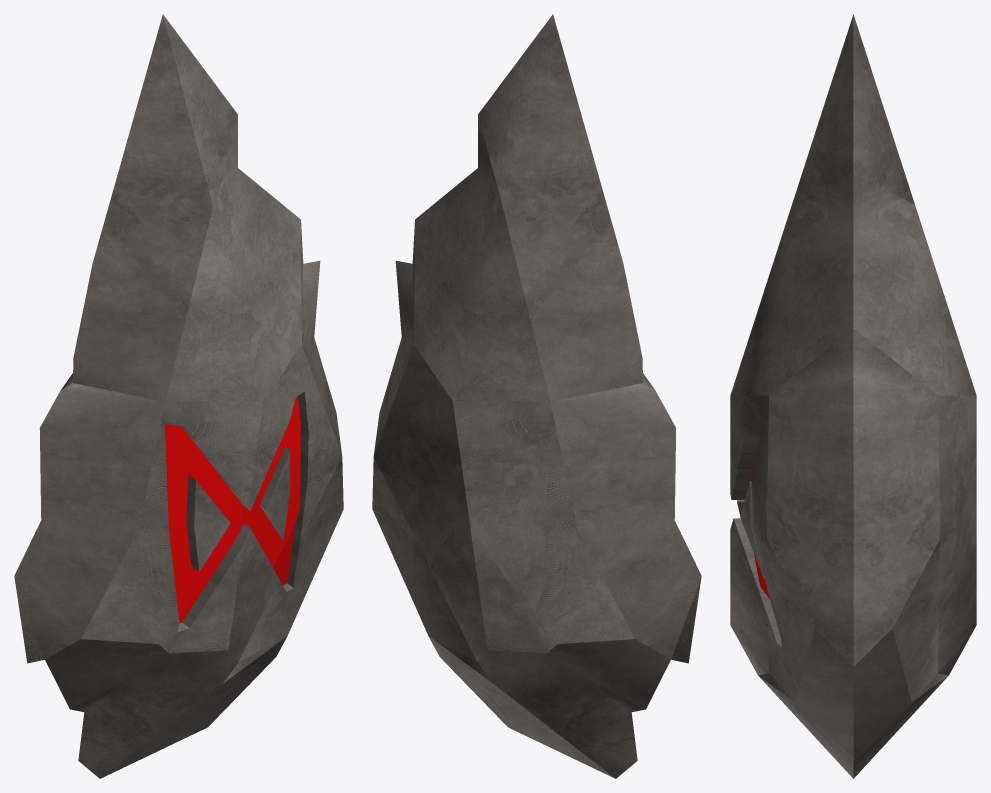
The model's file is Attack_AttackPower.fbx.
3 renders of one model, left to right at view 1: azimuth 30°, elevation 25°; view 2: azimuth 150°, elevation 25°; view 3: azimuth 270°, elevation 25°, orthographic. The views are drawn at different scales.
Parts seen in each view (by area): view 1: Attack_D Rune; view 2: Attack_D Rune; view 3: Attack_D Rune.
Part boxes in pixels (x1,y1,x2,y2): Attack_D Rune: (14, 14, 343, 778); Attack_D Rune: (372, 14, 701, 778); Attack_D Rune: (730, 14, 976, 778).
Size of the model in its own units: 33.15 by 73.71 by 21.42.
1 material, 1 textured.
